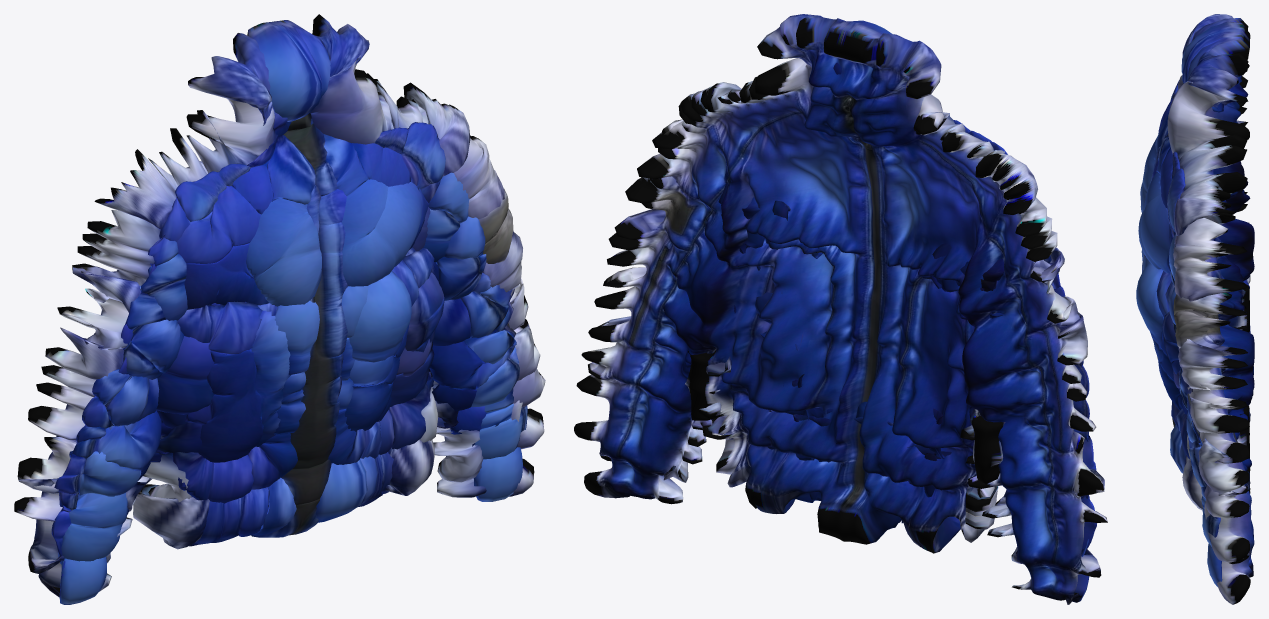
Rendered from jacket_blue.glb.
3 views of the same model, side by side, from view 1: azimuth 30°, elevation 25°; view 2: azimuth 150°, elevation 25°; view 3: azimuth 270°, elevation 25° (orthographic). The views are drawn at different scales.
Visible parts, largest first — view 1: Jacket_3D; view 2: Jacket_3D; view 3: Jacket_3D.
Boxes of the visible parts, bbox=[...] form: Jacket_3D: bbox=[14, 14, 545, 604]; Jacket_3D: bbox=[574, 14, 1107, 604]; Jacket_3D: bbox=[1136, 14, 1254, 604].
Bounding box in the file's own units: 2.39 × 2.28 × 0.5228.
1 material, 1 textured.
